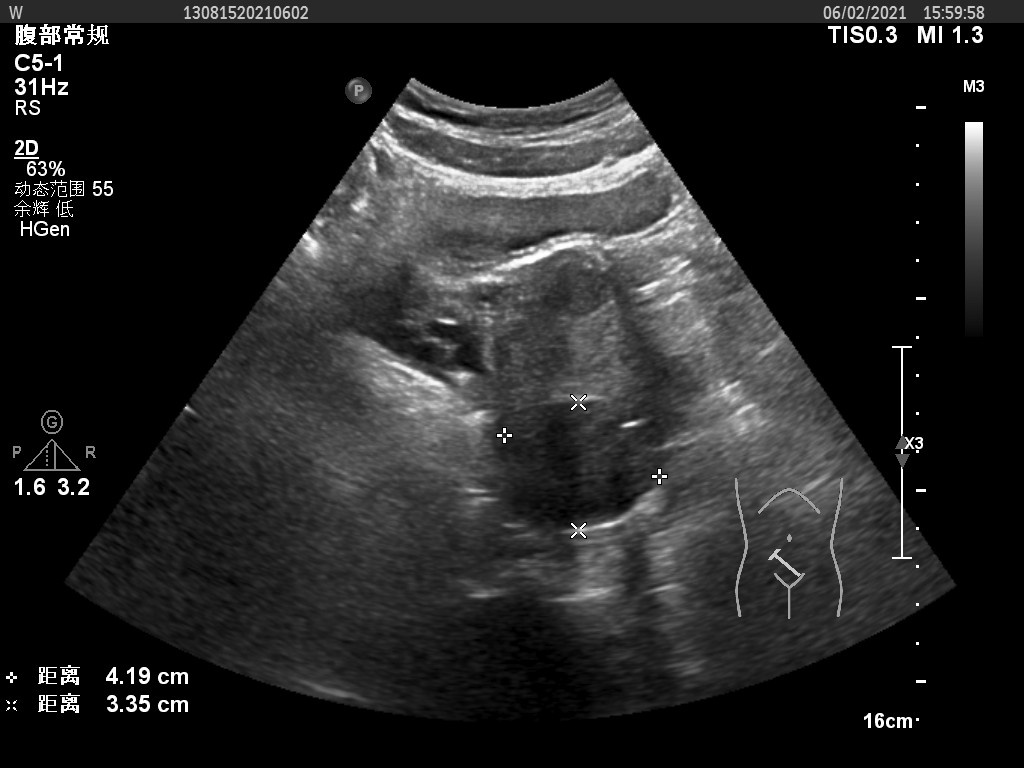肌瘤: (503, 407, 654, 526)
